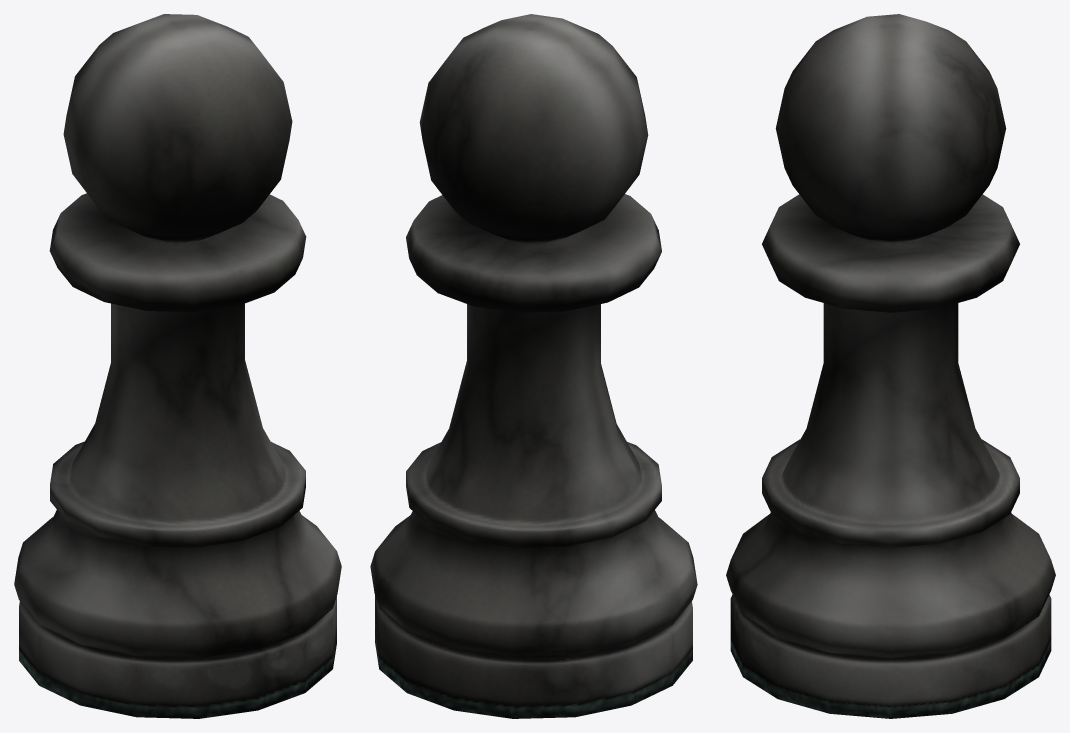
The model's file is ChessPieces_Pawn_Black.gltf.
3 views of the same model, side by side, from view 1: azimuth 30°, elevation 25°; view 2: azimuth 150°, elevation 25°; view 3: azimuth 270°, elevation 25° (orthographic).
Visible parts, largest first — view 1: ChessPieces_Pawn_Black; view 2: ChessPieces_Pawn_Black; view 3: ChessPieces_Pawn_Black.
Boxes of the visible parts, x1=… form: ChessPieces_Pawn_Black: x1=14, y1=14, x2=341, y2=718; ChessPieces_Pawn_Black: x1=370, y1=14, x2=697, y2=718; ChessPieces_Pawn_Black: x1=726, y1=14, x2=1055, y2=718.
Bounding box in the file's own units: 0.0221 × 0.0463 × 0.0221.
1 material, 1 textured.
